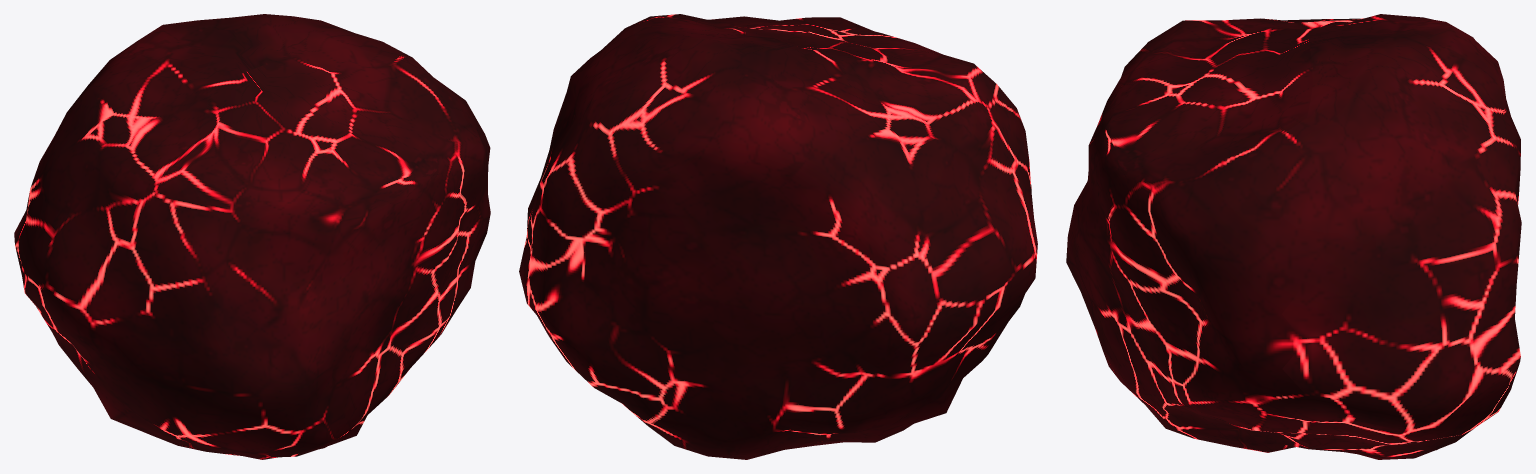
File: rock_warm_crimson.glb
3 renders of one model, left to right at view 1: azimuth 30°, elevation 25°; view 2: azimuth 150°, elevation 25°; view 3: azimuth 270°, elevation 25°, orthographic. The views are drawn at different scales.
Visible parts, largest first — view 1: rock; view 2: rock; view 3: rock.
Part boxes in pixels (x1=…): rock: x1=14, y1=14, x2=490, y2=459; rock: x1=519, y1=14, x2=1037, y2=459; rock: x1=1066, y1=14, x2=1521, y2=459.
Size of the model in its own units: 2.04 by 1.74 by 1.71.
Materials: 1 (1 with a texture image).
